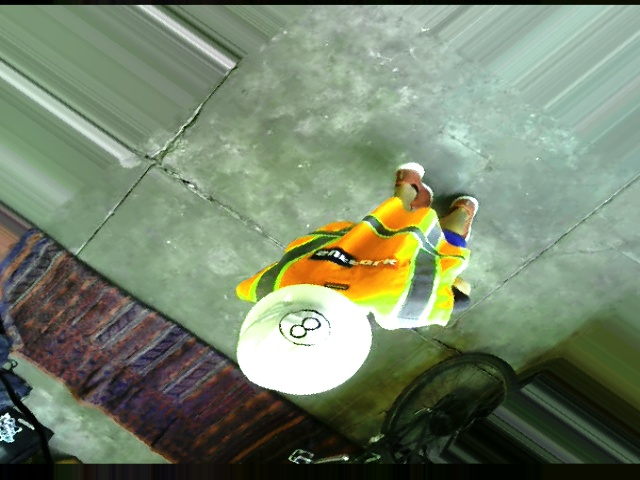eight: (268, 301, 341, 355)
